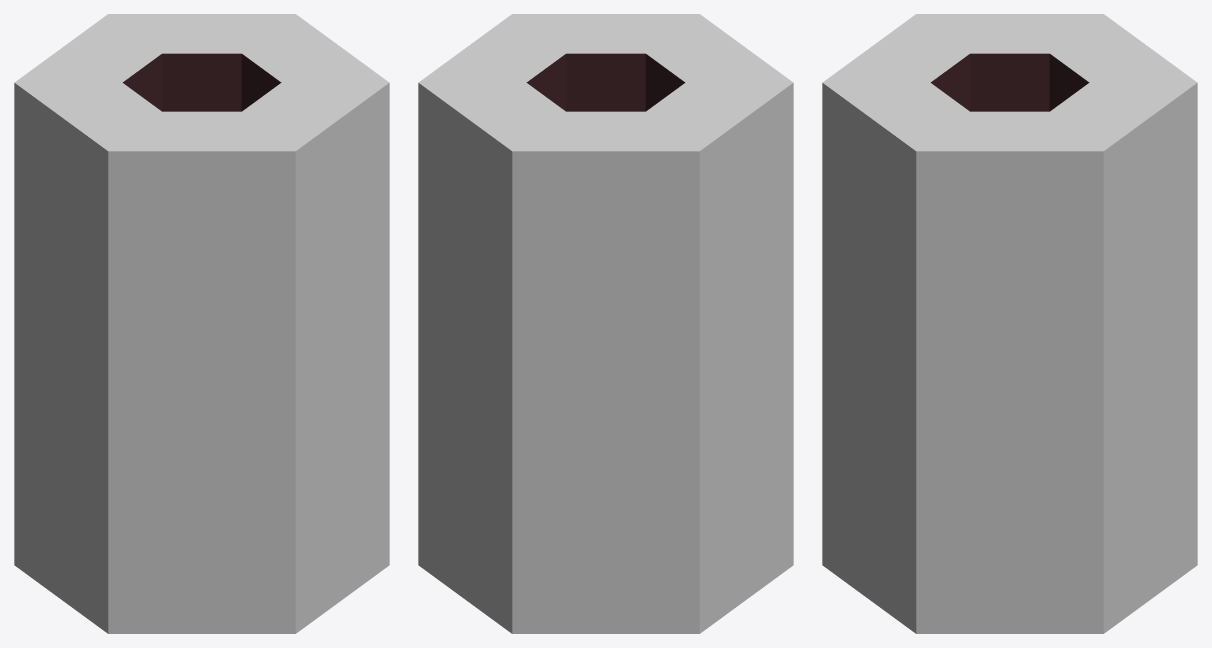
File: Napkin_paper.fbx
The picture shows the model from 3 angles, left to right: view 1: azimuth 30°, elevation 25°; view 2: azimuth 150°, elevation 25°; view 3: azimuth 270°, elevation 25°; orthographic projection.
Visible parts, largest first — view 1: Napkin paper; view 2: Napkin paper; view 3: Napkin paper.
Part boxes in pixels (left/top/right/bottom): Napkin paper: left=14, top=14, right=389, bottom=633; Napkin paper: left=418, top=14, right=793, bottom=633; Napkin paper: left=822, top=14, right=1197, bottom=633.
Bounding box in the file's own units: 37.27 × 61.1 × 43.04.
